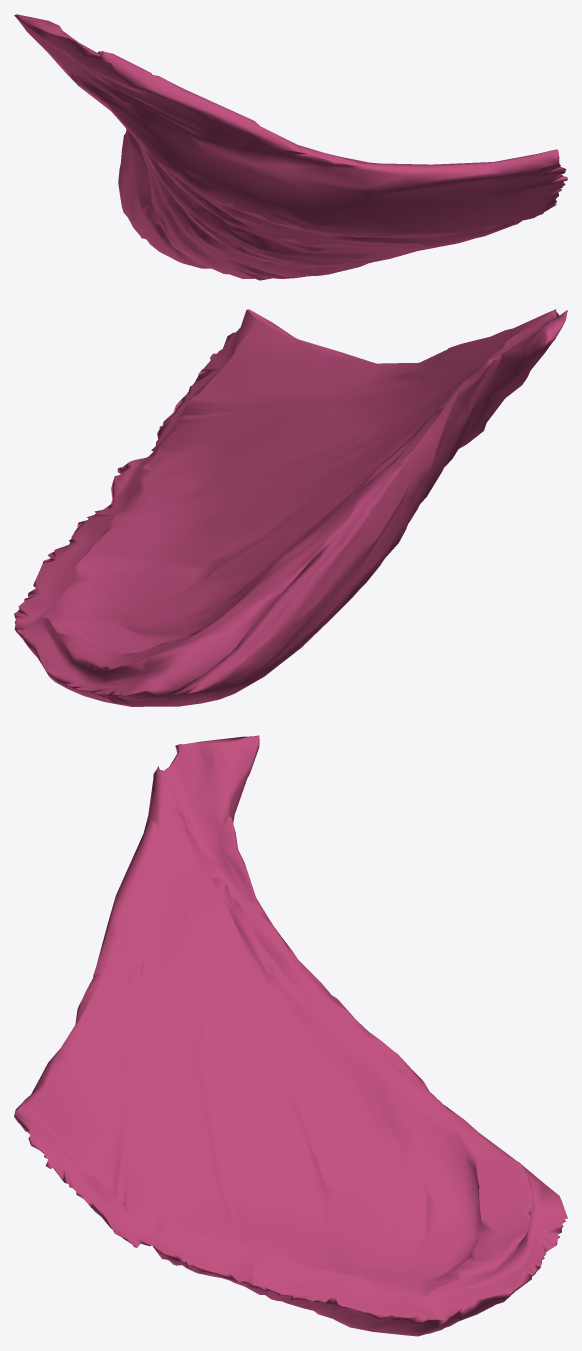
The picture shows the model from 3 angles, top to bottom: view 1: azimuth 30°, elevation 25°; view 2: azimuth 150°, elevation 25°; view 3: azimuth 270°, elevation 25°; orthographic projection. The views are drawn at different scales.
Parts seen in each view (by area): view 1: 右侧胸大肌胸肋部; view 2: 右侧胸大肌胸肋部; view 3: 右侧胸大肌胸肋部.
Part boxes in pixels (x1,y1,x2,y2): 右侧胸大肌胸肋部: (14,14,567,280); 右侧胸大肌胸肋部: (14,309,567,706); 右侧胸大肌胸肋部: (14,735,567,1336).
Bounding box in the file's own units: 0.28 × 0.2096 × 0.2684.
